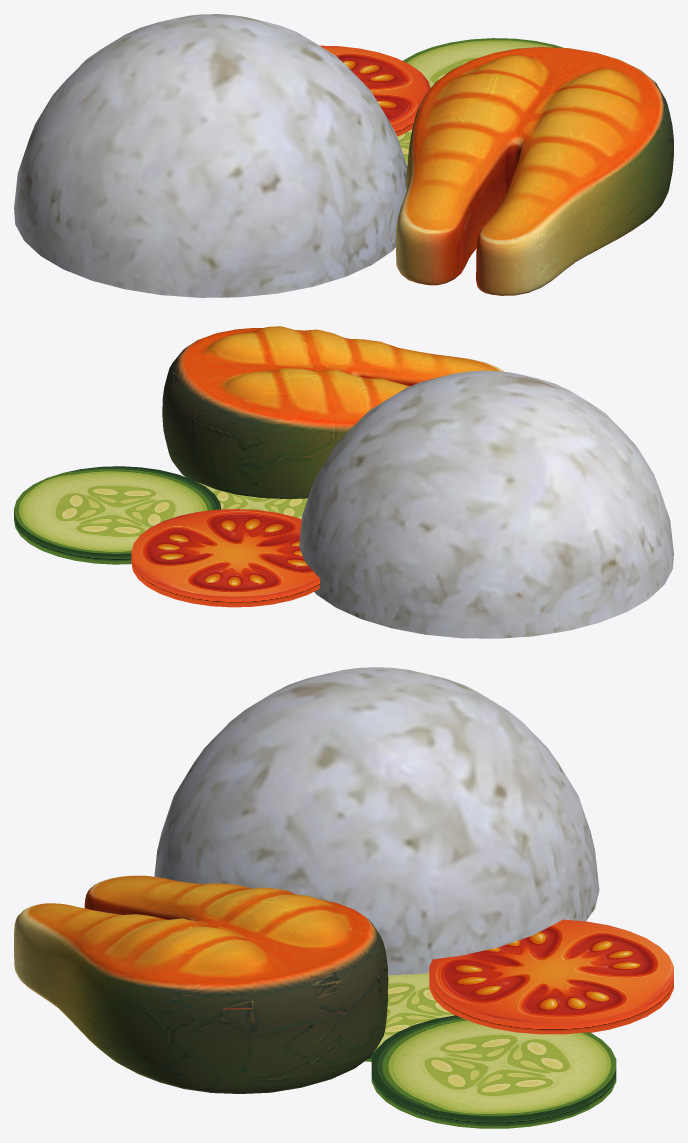
Rendered from RicewithFriedFish.fbx.
3 renders of one model, top to bottom at view 1: azimuth 30°, elevation 25°; view 2: azimuth 150°, elevation 25°; view 3: azimuth 270°, elevation 25°, orthographic. The views are drawn at different scales.
Visible parts, largest first — view 1: Com, input.002, Cylinder, Cylinder.001; view 2: Com, input.002, Cylinder, Cylinder.001, Cylinder.002; view 3: Com, input.002, Cylinder.001, Cylinder, Cylinder.002.
Part boxes in pixels (bbox=[...]): Com: bbox=[14, 14, 407, 297]; input.002: bbox=[396, 46, 673, 295]; Cylinder: bbox=[320, 45, 430, 136]; Cylinder.001: bbox=[403, 38, 563, 87]; Com: bbox=[299, 370, 673, 638]; input.002: bbox=[162, 326, 503, 498]; Cylinder: bbox=[131, 509, 320, 607]; Cylinder.001: bbox=[14, 466, 221, 564]; Cylinder.002: bbox=[193, 479, 307, 519]; Com: bbox=[154, 667, 599, 975]; input.002: bbox=[14, 875, 388, 1093]; Cylinder.001: bbox=[371, 1015, 616, 1128]; Cylinder: bbox=[429, 919, 673, 1034]; Cylinder.002: bbox=[365, 973, 454, 1061].
Bounding box in the file's own units: 349 × 102 × 296.
Materials: 4 (4 with a texture image).
